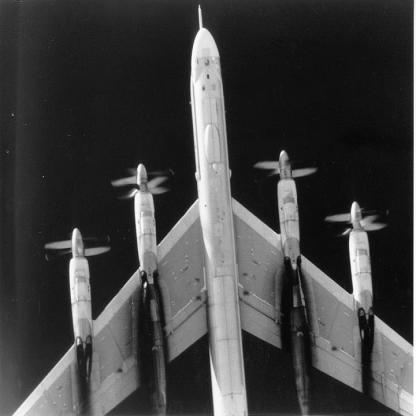Tu95: (12, 4, 415, 416)
